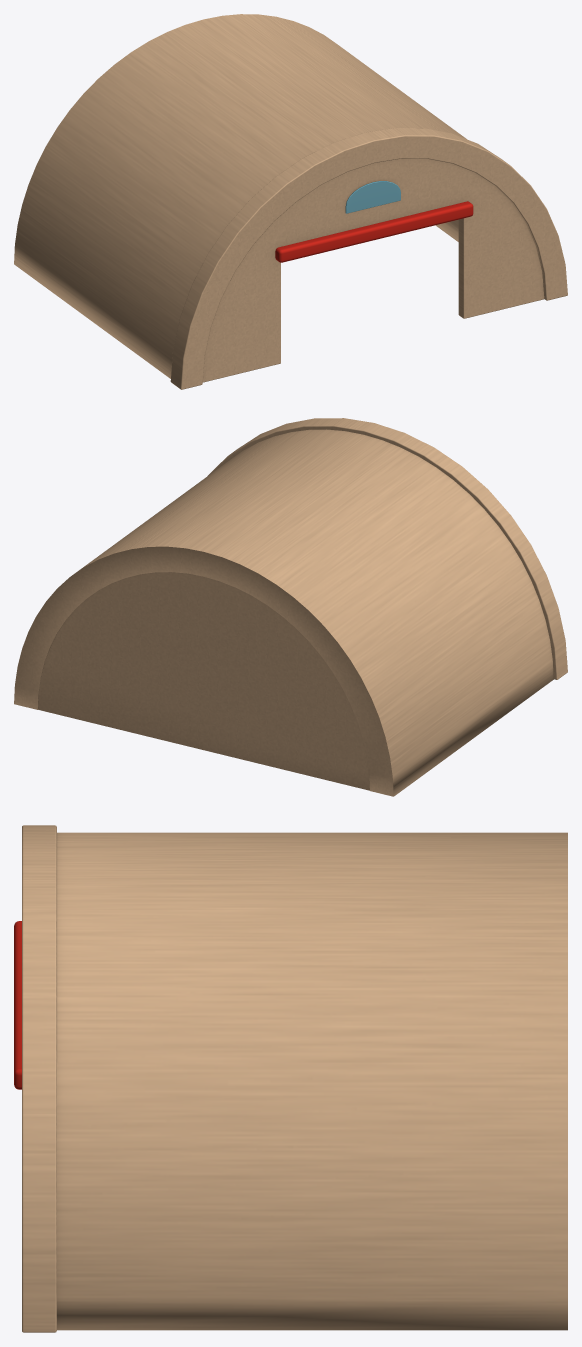
File: hangar.fbx
3 renders of one model, top to bottom at view 1: azimuth 30°, elevation 25°; view 2: azimuth 150°, elevation 25°; view 3: azimuth 270°, elevation 25°, orthographic. The views are drawn at different scales.
Visible parts, largest first — view 1: hangar; view 2: hangar; view 3: hangar.
Part boxes in pixels (bbox=[...]): hangar: bbox=[14, 14, 567, 389]; hangar: bbox=[14, 418, 567, 796]; hangar: bbox=[14, 825, 567, 1332].
Size of the model in its own units: 4000 by 2001 by 3104.
1 material, 1 textured.
